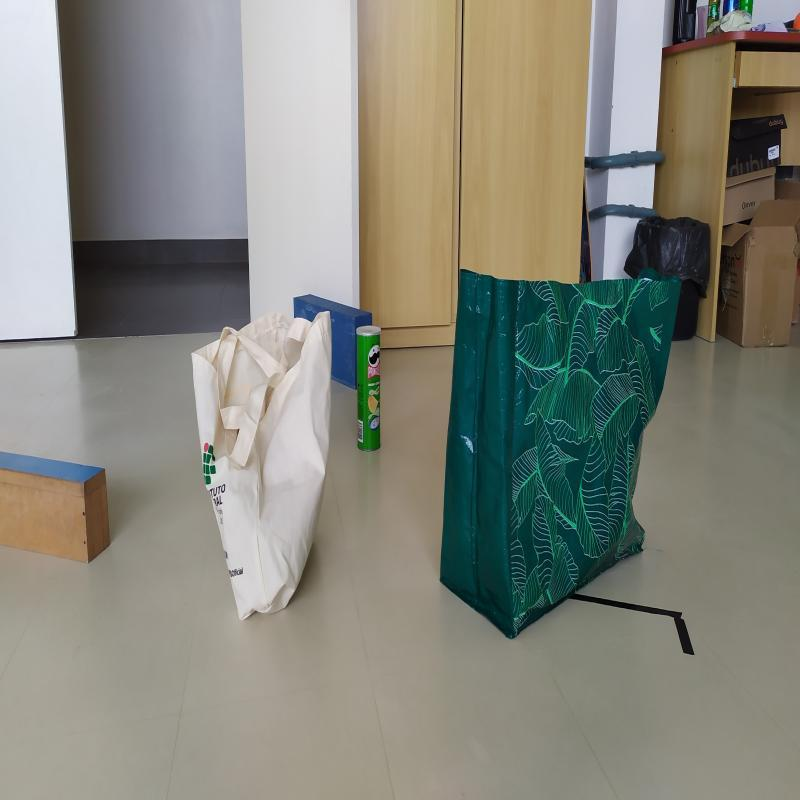Bag: (437, 261, 684, 642), (190, 304, 334, 624)
Pringles: (354, 326, 382, 453)
